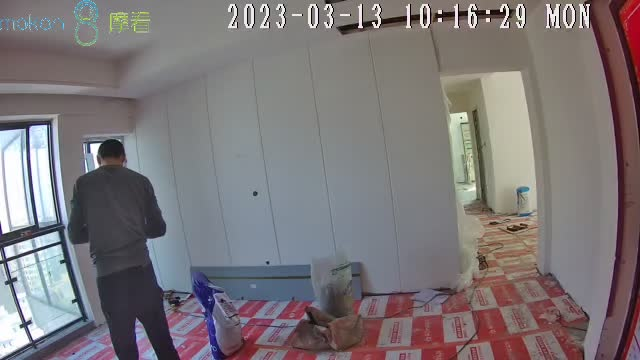people: (66, 138, 180, 360)
window: (1, 124, 85, 358)
